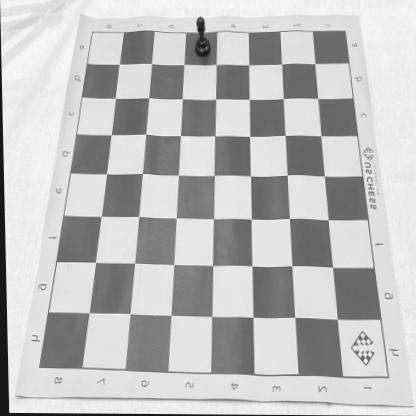black-pawn: (193, 17, 211, 59)
